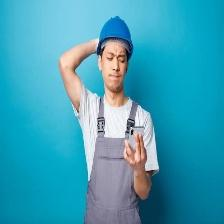Person: (59, 10, 161, 223)
helmet: (97, 13, 134, 60)
no-vest: (83, 95, 149, 224)
